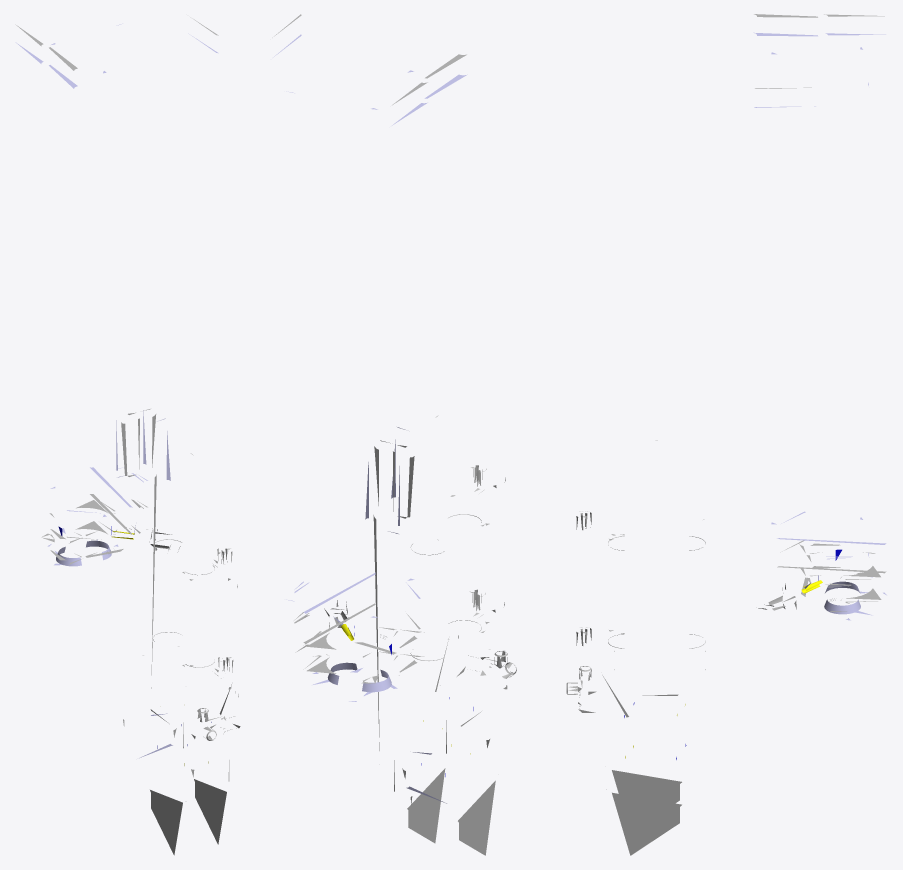
3 renders of one model, left to right at view 1: azimuth 30°, elevation 25°; view 2: azimuth 150°, elevation 25°; view 3: azimuth 270°, elevation 25°, orthographic. The views are drawn at different scales.
Parts seen in each view (by area): view 1: F19721000063102000153_001_zb_ub_verriegelung_53_fa (×2); view 2: F19721000063102000153_001_zb_ub_verriegelung_53_fa (×2); view 3: F19721000063102000153_001_zb_ub_verriegelung_53_fa (×2).
Boxes of the visible parts, <box> form: F19721000063102000153_001_zb_ub_verriegelung_53_fa (×2): <box>15,17,240,855</box>; F19721000063102000153_001_zb_ub_verriegelung_53_fa (×2): <box>272,14,516,855</box>; F19721000063102000153_001_zb_ub_verriegelung_53_fa (×2): <box>566,14,886,855</box>.
Size of the model in its own units: 172 by 332 by 850.
